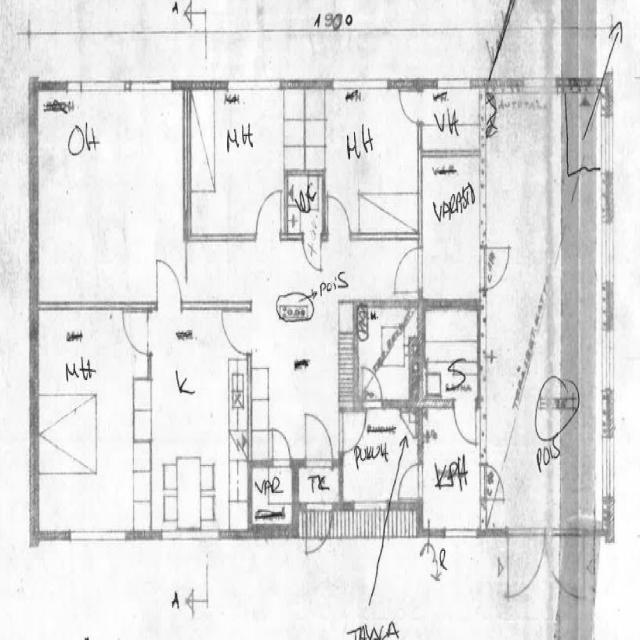door: (502, 526, 547, 604), (301, 408, 335, 470), (391, 241, 424, 300), (153, 254, 183, 316), (477, 242, 513, 293), (253, 185, 284, 241), (220, 304, 252, 357), (120, 306, 152, 357), (452, 396, 481, 447), (324, 191, 352, 242), (394, 458, 423, 506), (338, 408, 367, 454), (269, 424, 293, 468), (398, 84, 423, 126), (360, 366, 384, 407), (302, 233, 323, 274)
window: (565, 76, 607, 180), (596, 92, 618, 184), (66, 75, 174, 93), (64, 526, 128, 552), (600, 430, 618, 506), (599, 323, 617, 399), (599, 217, 617, 291), (331, 77, 392, 97), (224, 77, 282, 97), (432, 76, 476, 95), (441, 522, 480, 543)
zone: (483, 79, 609, 532), (33, 88, 184, 305), (35, 304, 153, 538), (149, 308, 249, 529), (324, 80, 418, 298), (249, 299, 354, 462), (188, 85, 287, 240), (418, 150, 484, 304), (339, 405, 422, 506), (420, 404, 483, 533), (354, 301, 420, 405), (422, 302, 481, 404), (420, 83, 484, 156), (249, 462, 295, 534), (284, 172, 324, 238), (295, 460, 341, 516)
